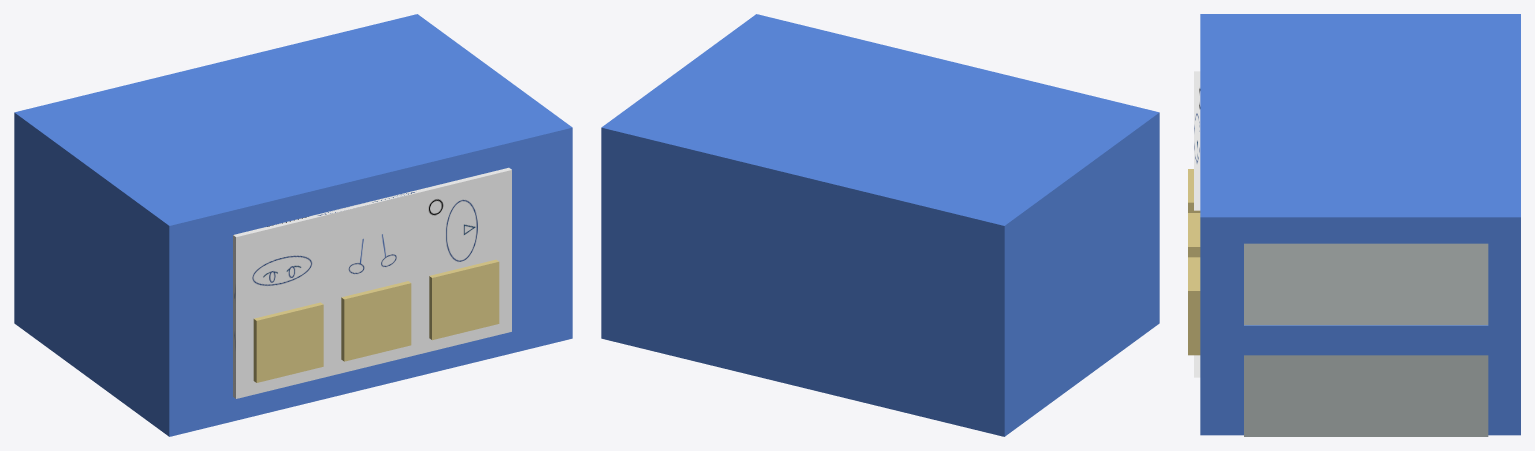
Rendered from BlueBox.fbx.
3 renders of one model, left to right at view 1: azimuth 30°, elevation 25°; view 2: azimuth 150°, elevation 25°; view 3: azimuth 270°, elevation 25°, orthographic. The views are drawn at different scales.
Visible parts, largest first — view 1: Cube, 立方体, 立方体.003, 立方体.004, 立方体.005; view 2: Cube; view 3: Cube, Cube.004, Cube.003, 立方体.005, 立方体, 立方体.004.
Boxes of the visible parts, x1=… form: Cube: x1=14, y1=14, x2=572, y2=436; 立方体: x1=233, y1=167, x2=511, y2=398; 立方体.003: x1=253, y1=302, x2=323, y2=382; 立方体.004: x1=341, y1=281, x2=411, y2=361; 立方体.005: x1=429, y1=259, x2=499, y2=340; Cube: x1=601, y1=14, x2=1159, y2=436; Cube: x1=1200, y1=14, x2=1520, y2=435; Cube.004: x1=1244, y1=243, x2=1488, y2=325; Cube.003: x1=1244, y1=355, x2=1488, y2=436; 立方体.005: x1=1188, y1=257, x2=1200, y2=355; 立方体: x1=1194, y1=71, x2=1200, y2=377; 立方体.004: x1=1188, y1=213, x2=1200, y2=257.
Bounding box in the file's own units: 120 × 60.67 × 83.07.
Materials: 5 (1 with a texture image).
